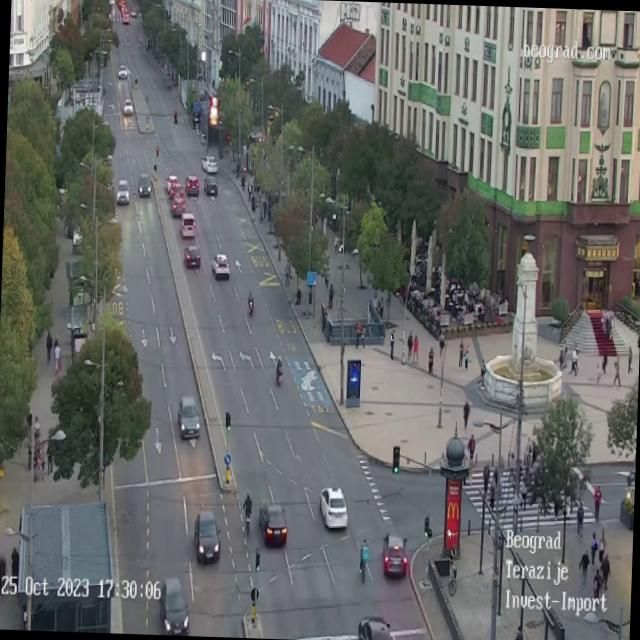car: (157, 576, 191, 635), (193, 509, 221, 564), (257, 500, 288, 546), (317, 485, 348, 530), (381, 532, 409, 578), (357, 614, 396, 640), (177, 396, 200, 439), (211, 252, 230, 278), (136, 170, 150, 197), (182, 247, 200, 264), (183, 176, 200, 194), (118, 181, 130, 205), (180, 214, 193, 236), (170, 197, 185, 214), (204, 176, 217, 195), (122, 98, 134, 115), (203, 155, 215, 171), (166, 180, 178, 196), (172, 184, 184, 198), (118, 64, 126, 80)
